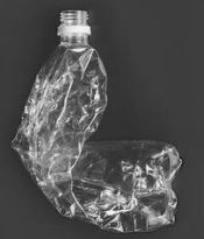plastic: (10, 9, 182, 234)
